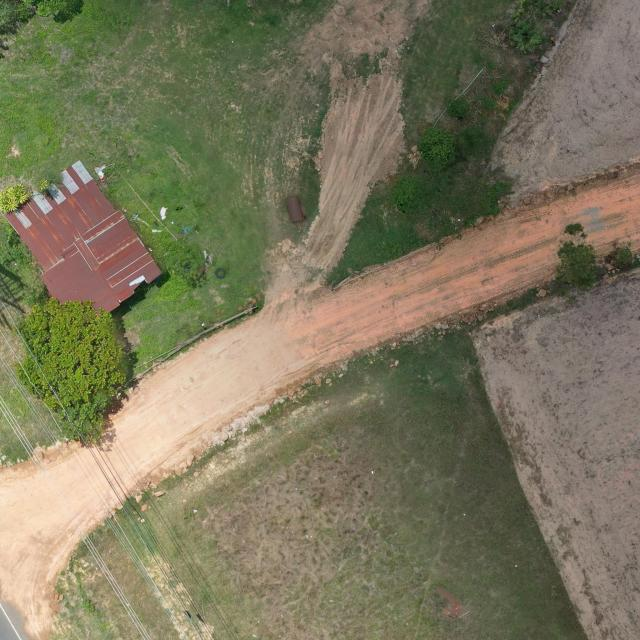Tree: (19, 297, 130, 448), (556, 222, 599, 291), (418, 125, 459, 174), (390, 175, 428, 217)
